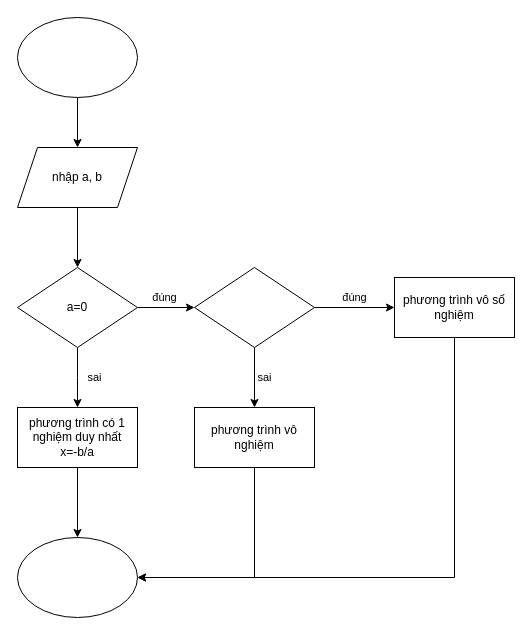
This 532x635 diagram has some shape labels left out. Here are the shapes that lost their labels. From the top down, the centre of each, then its label:
At [77,57]: "start".
At [254,307]: "b=0".
At [77,577]: "end".
